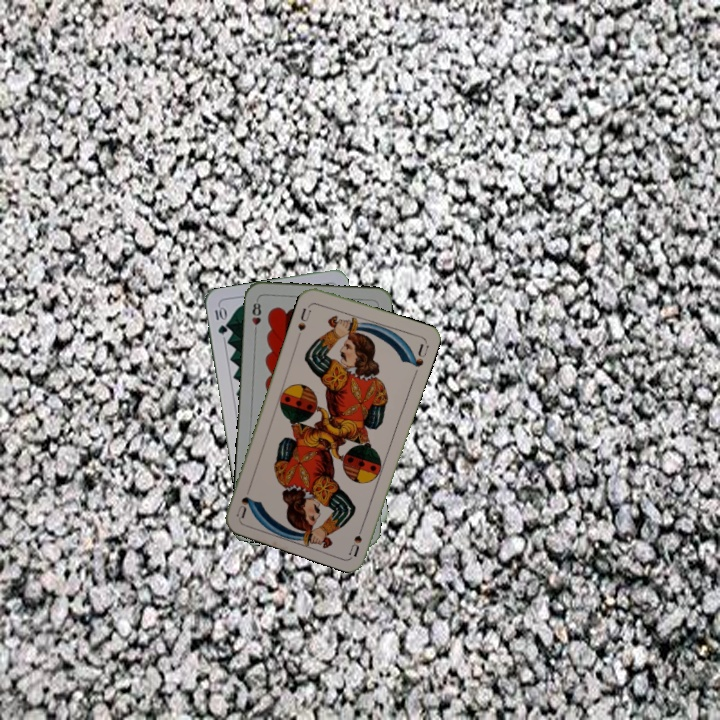G10: (211, 303, 230, 337)
H8: (248, 296, 264, 336)
SU: (345, 518, 367, 558), (294, 300, 314, 340)
